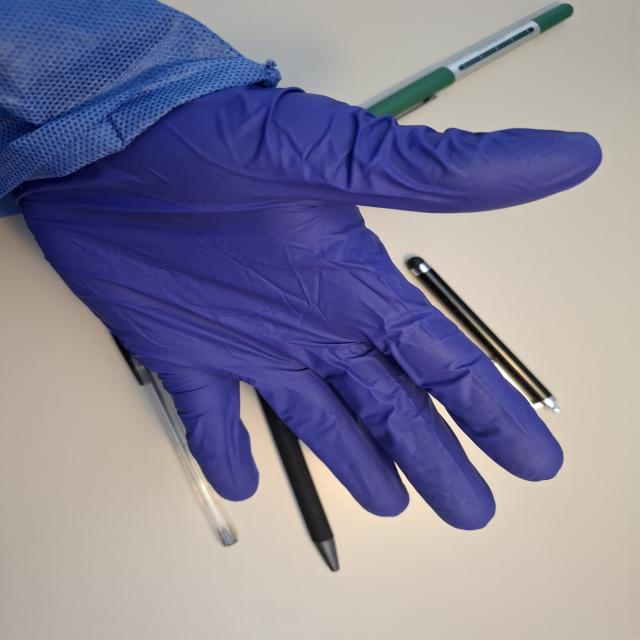glove_on: (12, 70, 606, 533)
